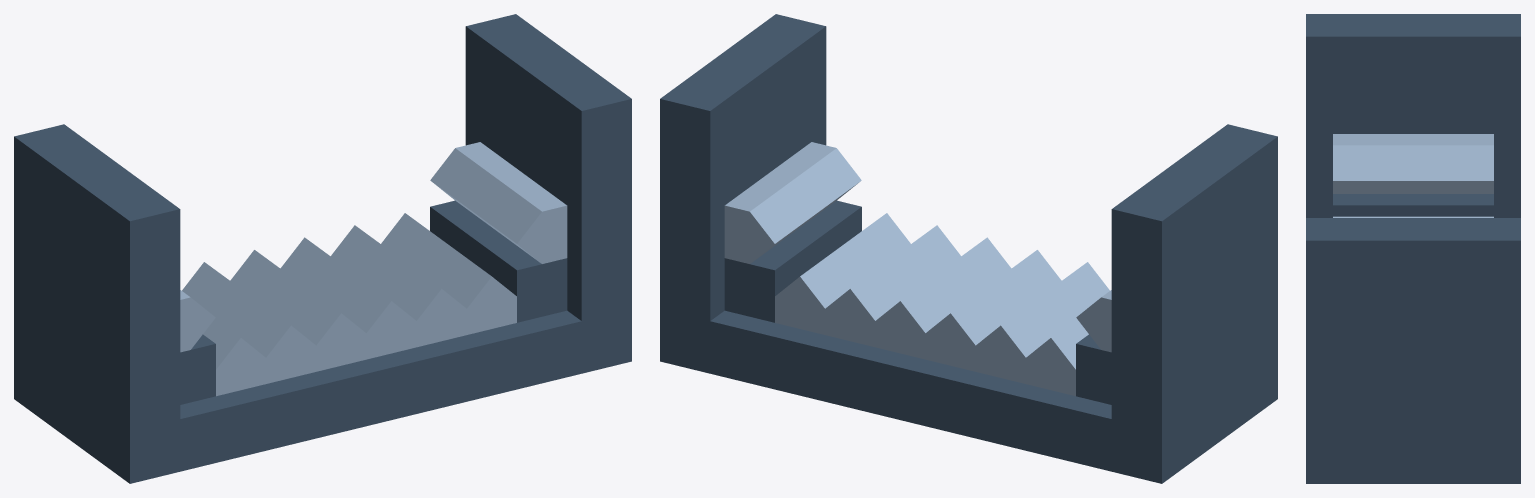
The model's file is devilFaceBOTTOM.glb.
The picture shows the model from 3 angles, left to right: view 1: azimuth 30°, elevation 25°; view 2: azimuth 150°, elevation 25°; view 3: azimuth 270°, elevation 25°; orthographic projection. The views are drawn at different scales.
Visible parts, largest first — view 1: generated(Clone); view 2: generated(Clone); view 3: generated(Clone).
Boxes of the visible parts, x1,y1,x2,y2 form: generated(Clone): [14, 14, 631, 483]; generated(Clone): [660, 14, 1277, 483]; generated(Clone): [1306, 14, 1520, 483].
Bounding box in the file's own units: 10 × 5 × 4.
